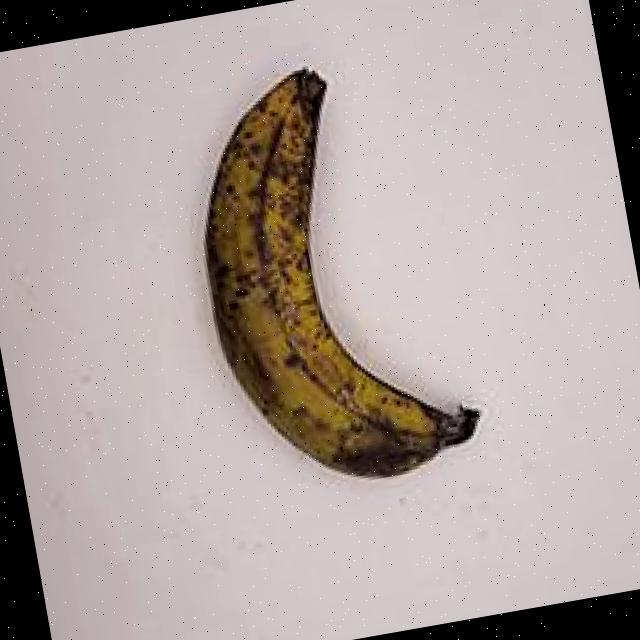Overripe: (108, 26, 514, 512)
